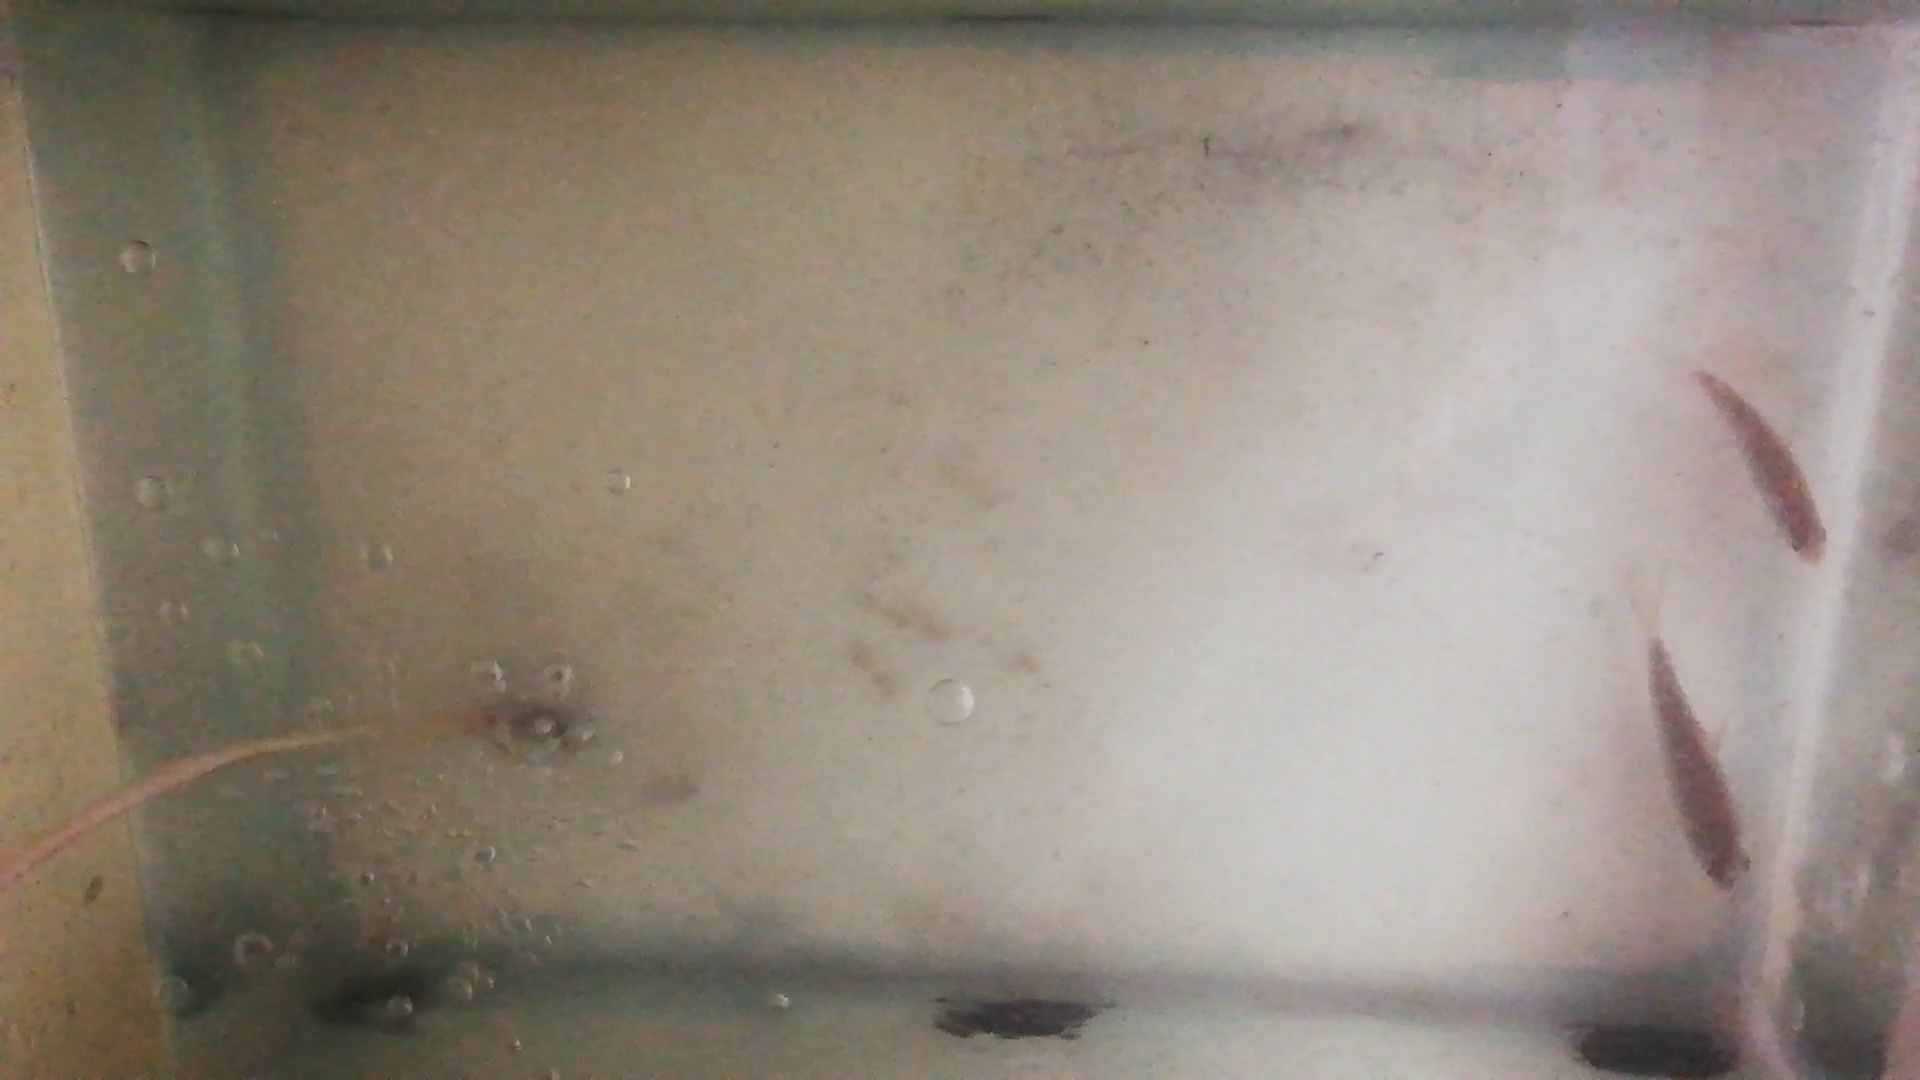fish: (1642, 629, 1750, 897), (1691, 369, 1830, 570)
